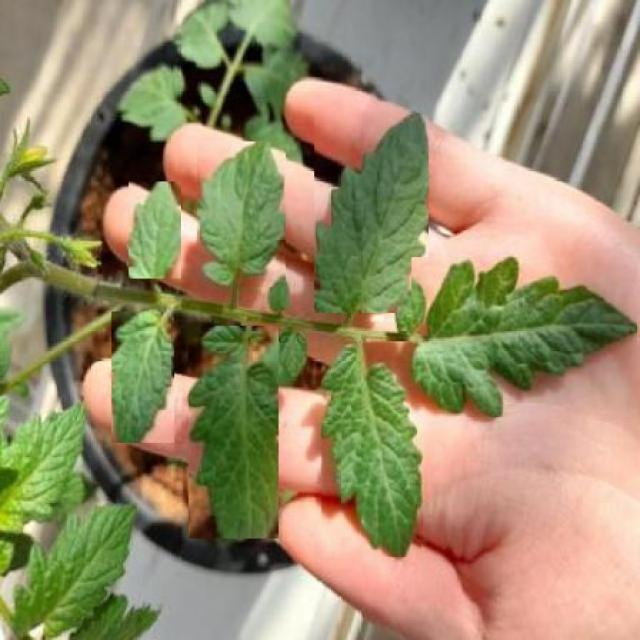Healthy: (412, 257, 637, 417), (315, 113, 429, 313), (322, 343, 422, 557), (188, 326, 278, 538), (197, 142, 286, 288), (112, 311, 174, 443), (129, 182, 180, 279)
